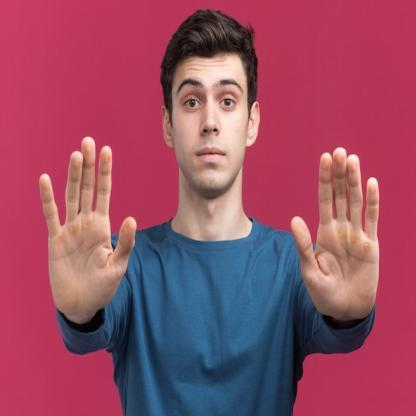stop: (34, 130, 140, 322), (284, 140, 384, 319)
